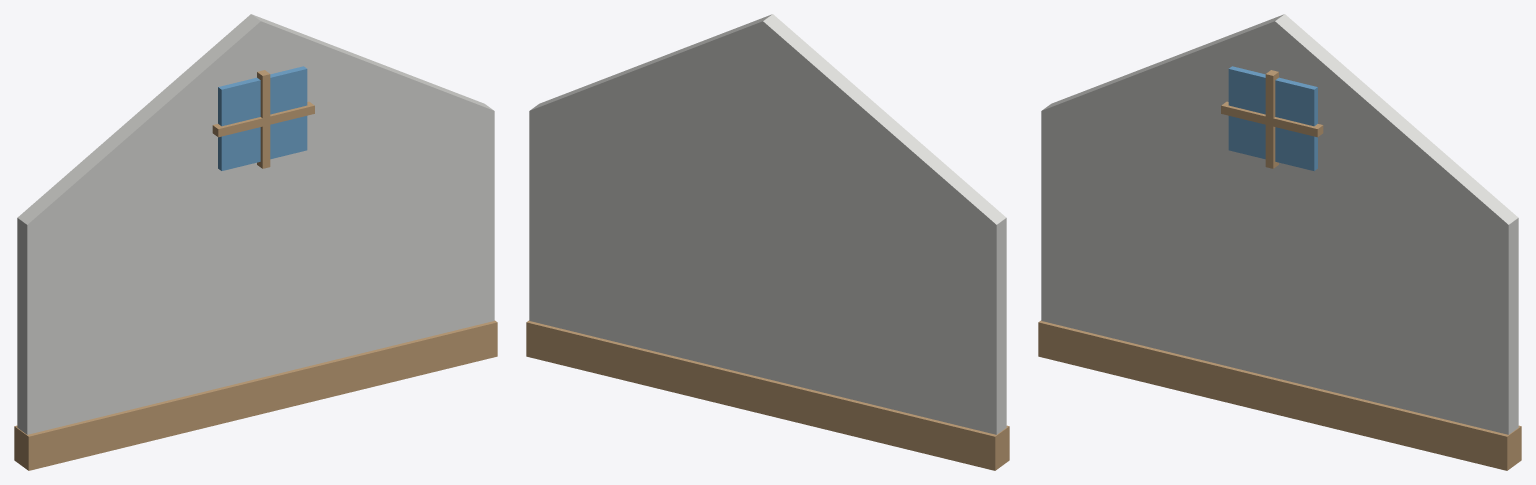
File: tennis-club-and-courts-clubhouse-gable-end-1026bfb5__33637.glb
3 renders of one model, left to right at view 1: azimuth 30°, elevation 25°; view 2: azimuth 150°, elevation 25°; view 3: azimuth 330°, elevation 25°, orthographic.
Parts seen in each view (by area): view 1: clubhouse-gable-end; view 2: clubhouse-gable-end; view 3: clubhouse-gable-end.
Part boxes in pixels (<box>): clubhouse-gable-end: <box>14,14,497,470</box>; clubhouse-gable-end: <box>526,14,1009,470</box>; clubhouse-gable-end: <box>1038,14,1521,470</box>.
Bounding box in the file's own units: 6.02 × 4.8 × 0.3946.
